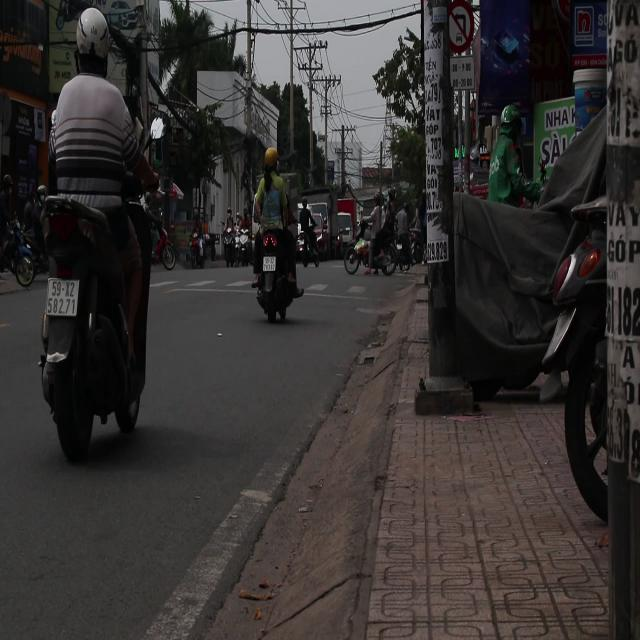motorbike: (38, 172, 172, 457), (255, 225, 299, 332), (348, 224, 397, 292), (0, 214, 38, 286), (212, 228, 244, 282)
